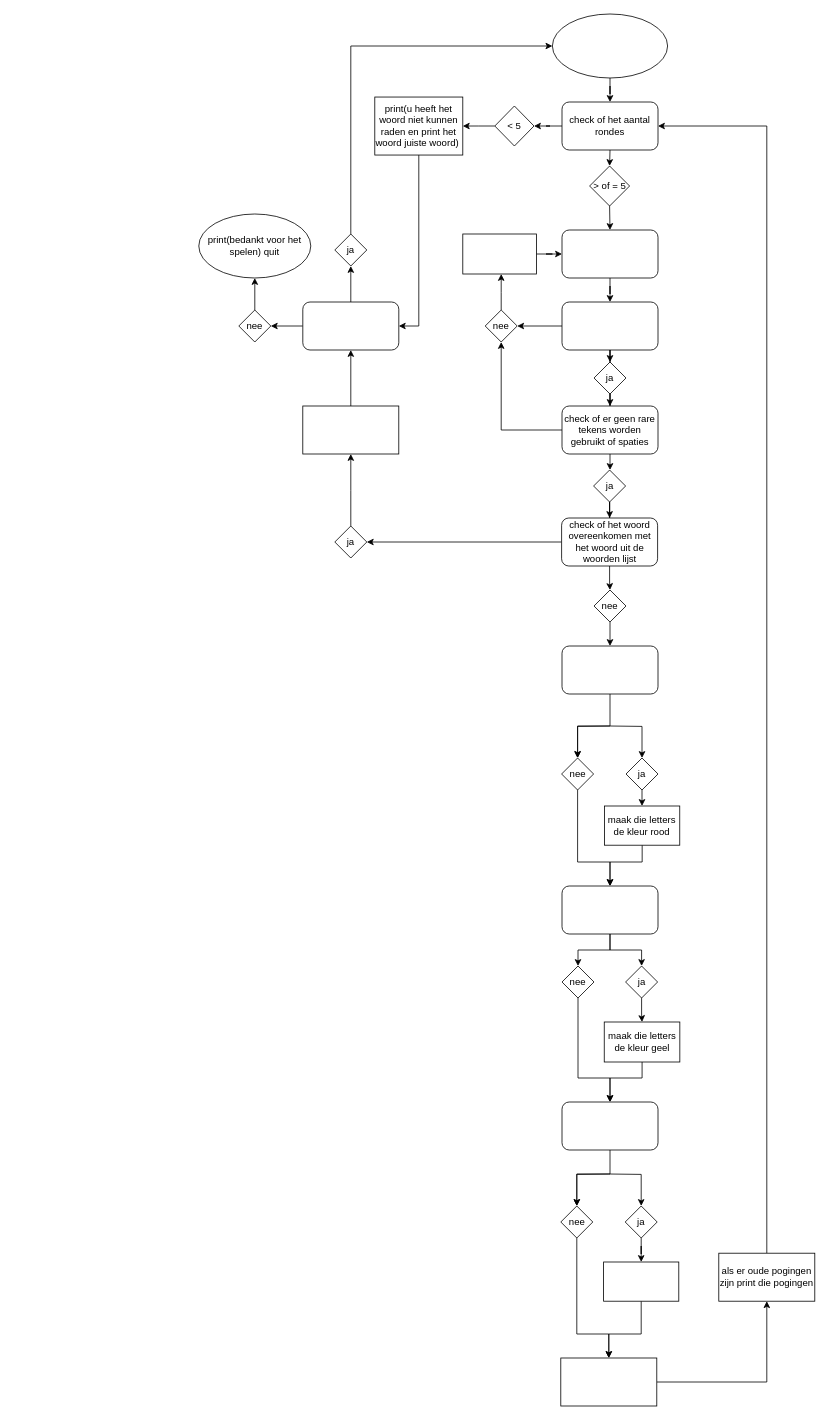
The diagram is 829 pixels wide and 1420 high, and some of its shapes have lost their labels. The shapes that lost their labels are listed below. From the top down, each one's centre as x and y in pixels, then its label:
point 610,45: er wordt een willekeirig woord uit de gegeven worden lijst gehaald
point 499,253: print sorry dat snap ik niet
point 609,253: print de ronde en probeer het woord te raden
point 350,325: wil je opnieuw spelen ja/nee
point 609,325: check of het woord uit 5 tekens bestaat
point 350,429: print(je hebt het woord geraden)
point 609,669: zijn er letters die niet in het woord zitten
point 609,909: check of er letters op de verkeerde plek staan
point 609,1125: check of er letters op de juiste plek staat
point 641,1281: maak die letters de kleur groen
point 608,1381: print de letters opnieuw met de juiste kleuren bij de letters
